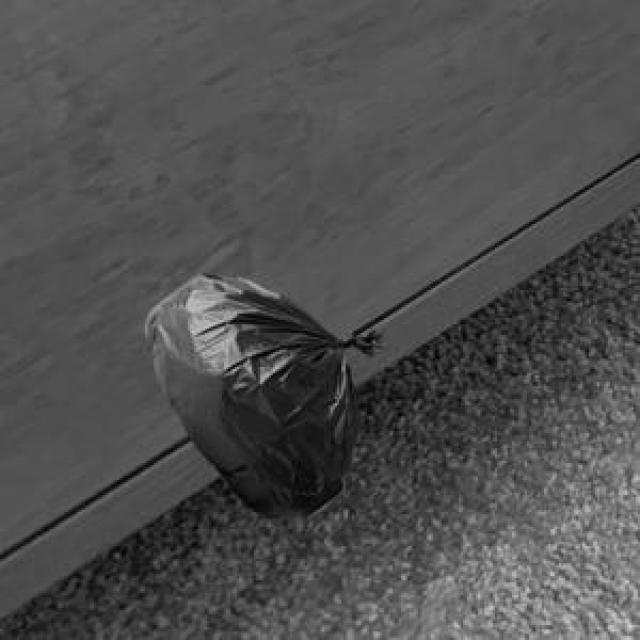miscellaneous trash: (141, 271, 382, 516)
